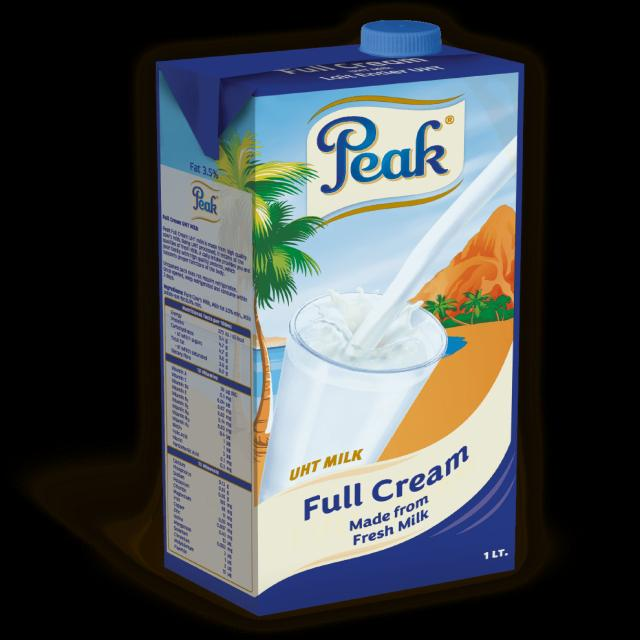milk: (151, 17, 534, 618)
